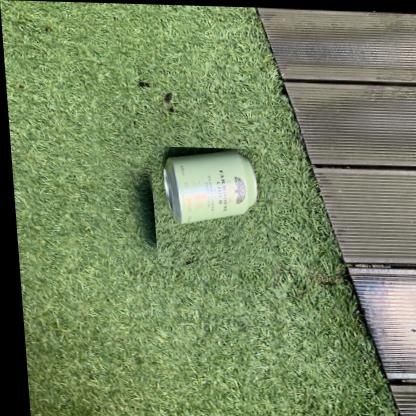trash: (164, 151, 256, 222)
